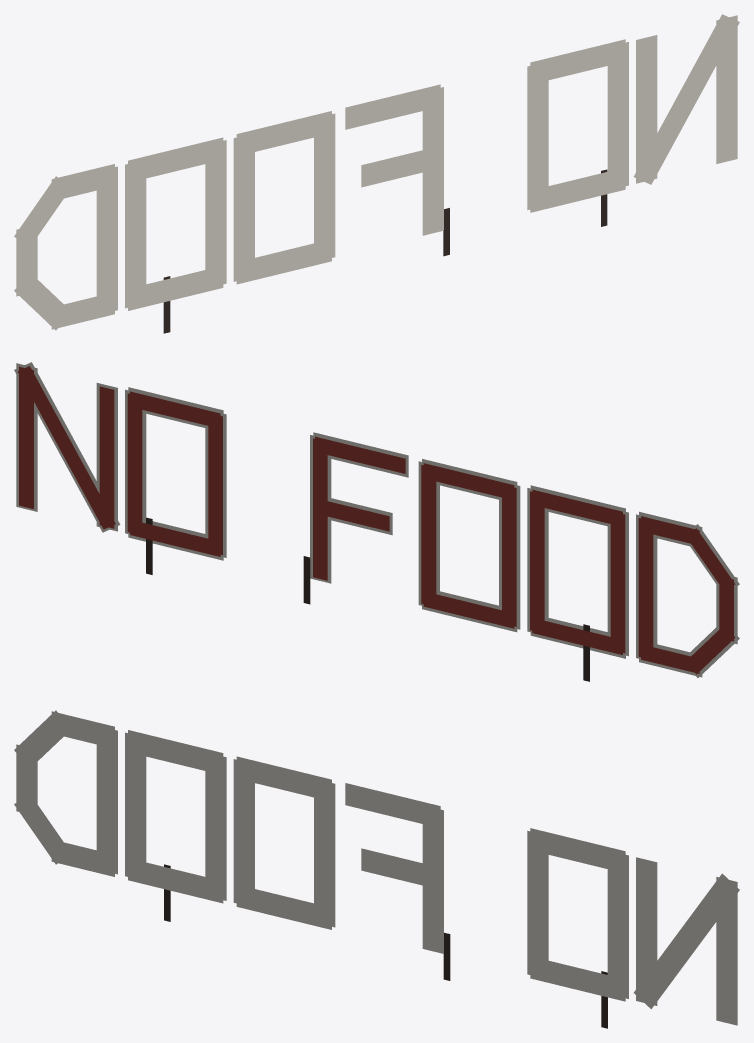
File: graffiti_no_food.glb
3 renders of one model, top to bottom at view 1: azimuth 30°, elevation 25°; view 2: azimuth 150°, elevation 25°; view 3: azimuth 330°, elevation 25°, orthographic.
Visible parts, largest first — view 1: graffiti_no_food; view 2: graffiti_no_food; view 3: graffiti_no_food.
Boxes of the visible parts, x1,y1,x2,y2 form: graffiti_no_food: (14, 14, 739, 333); graffiti_no_food: (14, 362, 739, 681); graffiti_no_food: (14, 710, 739, 1028).
Bounding box in the file's own units: 4.15 × 1.01 × 0.005.
Materials: 2 (2 with a texture image).
